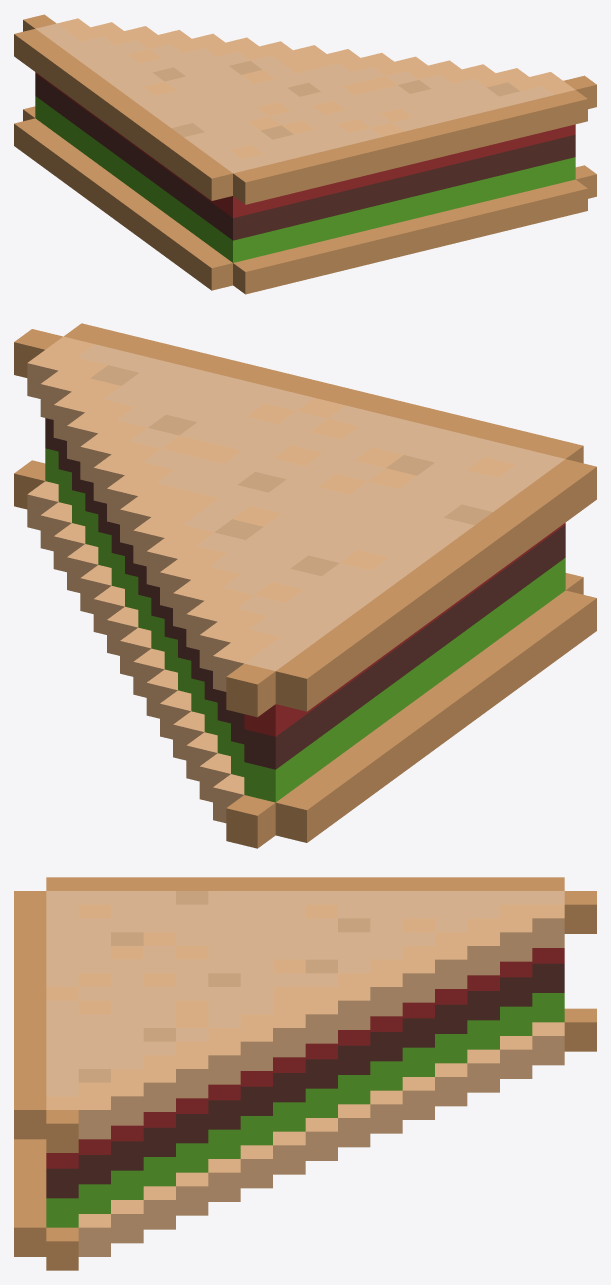
The model's file is sandwich.gltf.
3 views of the same model, one above another, from view 1: azimuth 30°, elevation 25°; view 2: azimuth 150°, elevation 25°; view 3: azimuth 270°, elevation 25° (orthographic). The views are drawn at different scales.
Bounding box in the file's own units: 18 × 5 × 18.
1 material, 1 textured.
